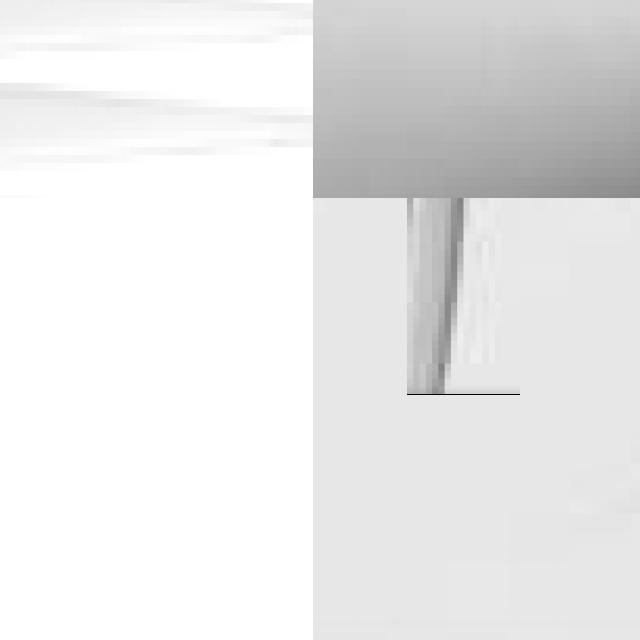forks: (0, 0, 313, 198), (313, 198, 640, 263)
spoons: (313, 0, 640, 198)
